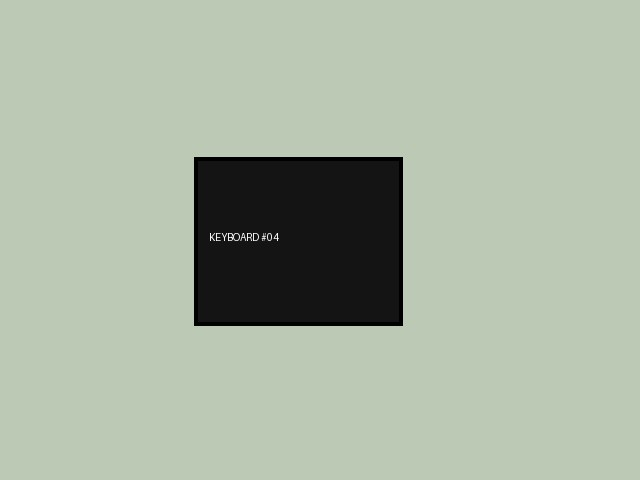keyboard: (194, 157, 402, 325)
